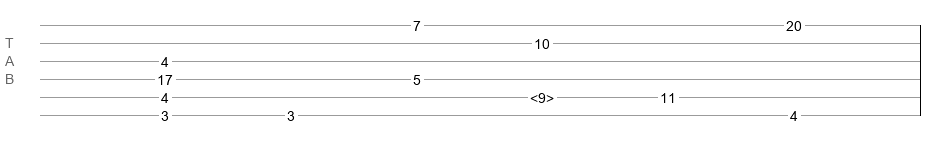10: (534, 36, 550, 46)
11: (660, 90, 676, 100)
17: (157, 72, 173, 82)
20: (786, 18, 802, 28)
3: (161, 108, 169, 118), (287, 108, 295, 118)
4: (161, 90, 169, 100), (161, 54, 169, 64), (790, 108, 798, 118)
5: (413, 72, 421, 82)
7: (413, 18, 421, 28)
harmonic: (530, 90, 554, 100)
